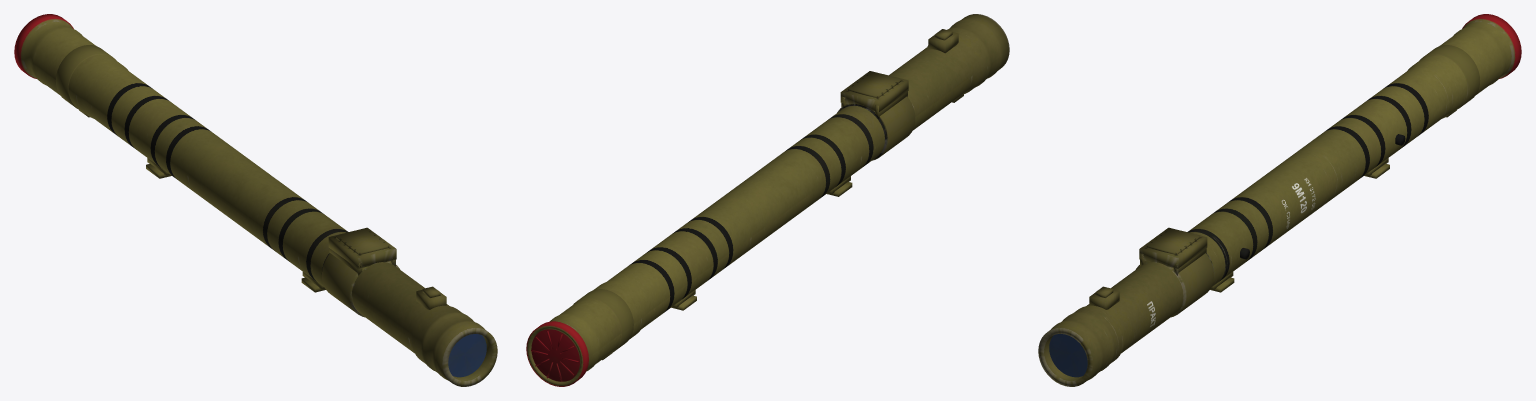
Rendered from w_ataka.glb.
3 renders of one model, left to right at view 1: azimuth 30°, elevation 25°; view 2: azimuth 150°, elevation 25°; view 3: azimuth 330°, elevation 25°, orthographic.
Visible parts, largest first — view 1: tube; view 2: tube, cap; view 3: tube.
Boxes of the visible parts, <box> form: tube: <box>14,14,497,386</box>; tube: <box>526,14,1009,386</box>; cap: <box>531,329,579,381</box>; tube: <box>1038,14,1521,386</box>.
Size of the model in its own units: 0.176 by 0.213 by 2.2.
Materials: 4 (4 with a texture image).
